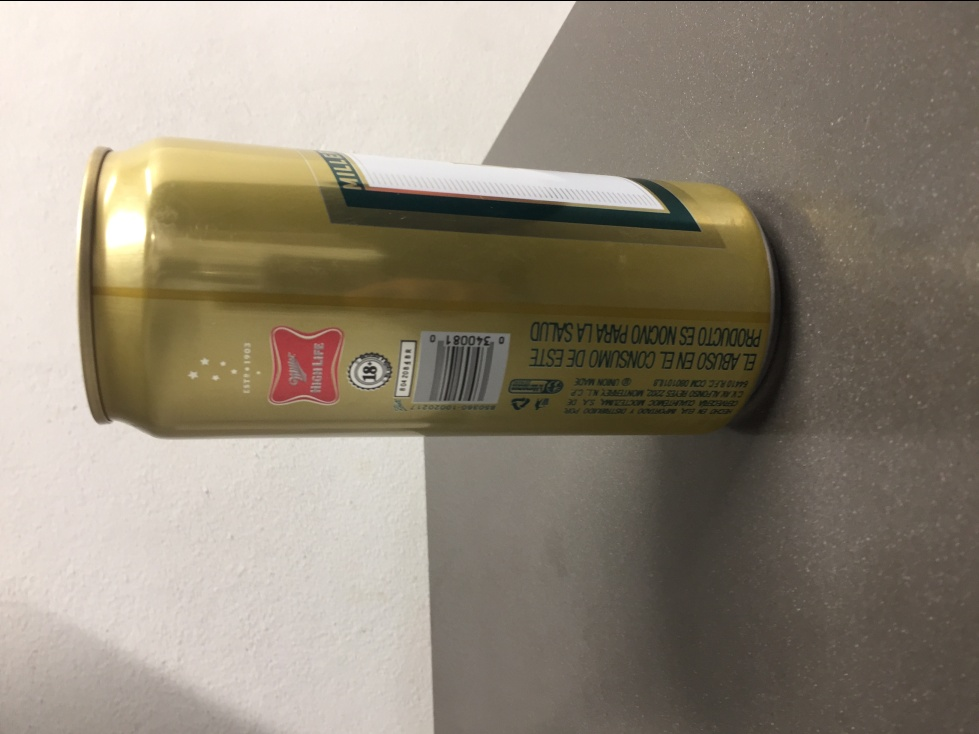miller: (74, 132, 789, 447)
